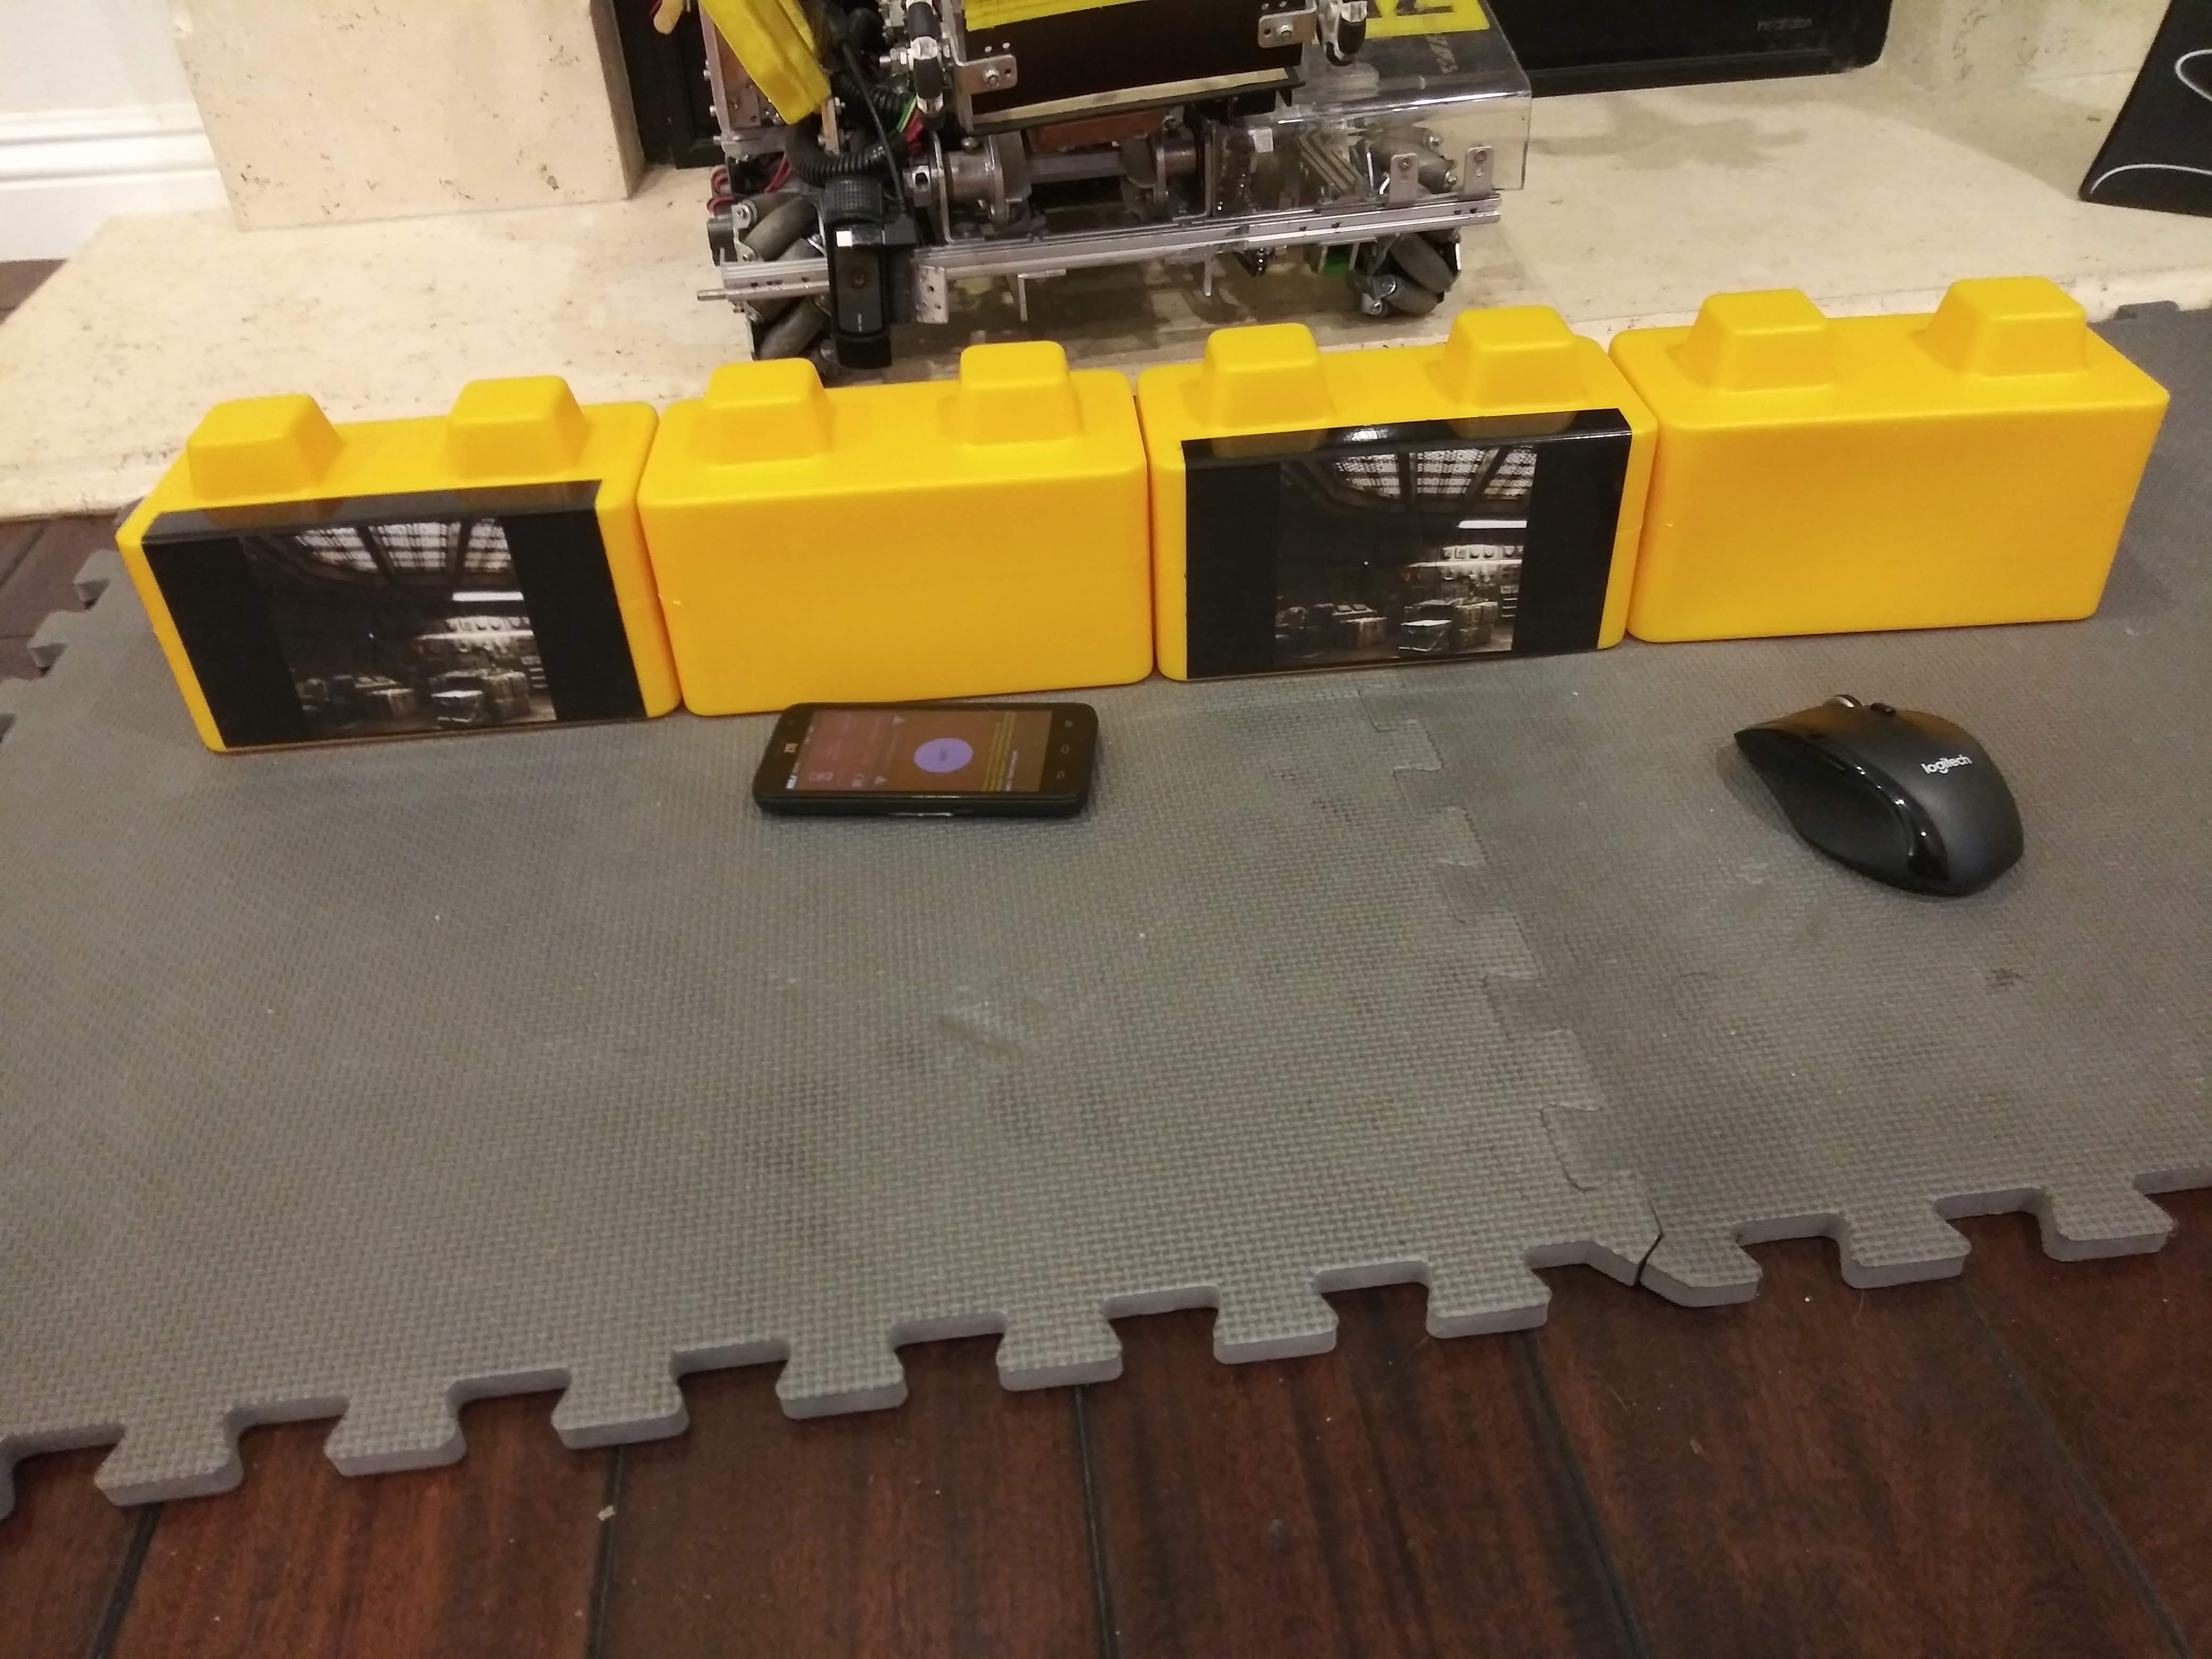skystone: (1150, 387, 1613, 697), (127, 462, 610, 741)
stone: (1648, 345, 2155, 659), (664, 427, 1109, 697)
